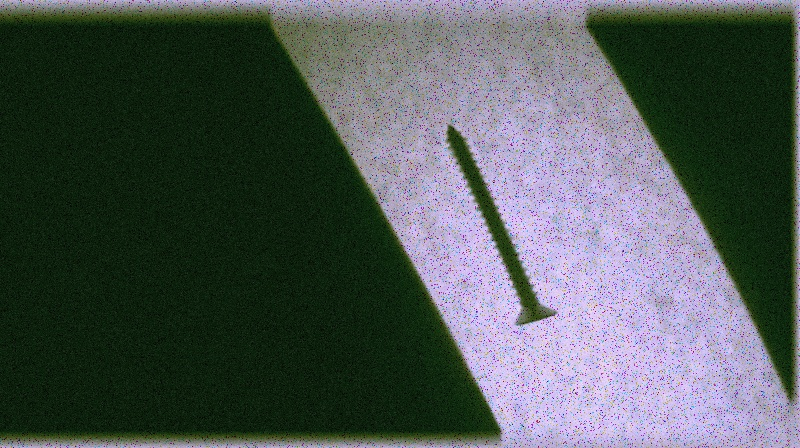S002: (442, 122, 562, 330)
